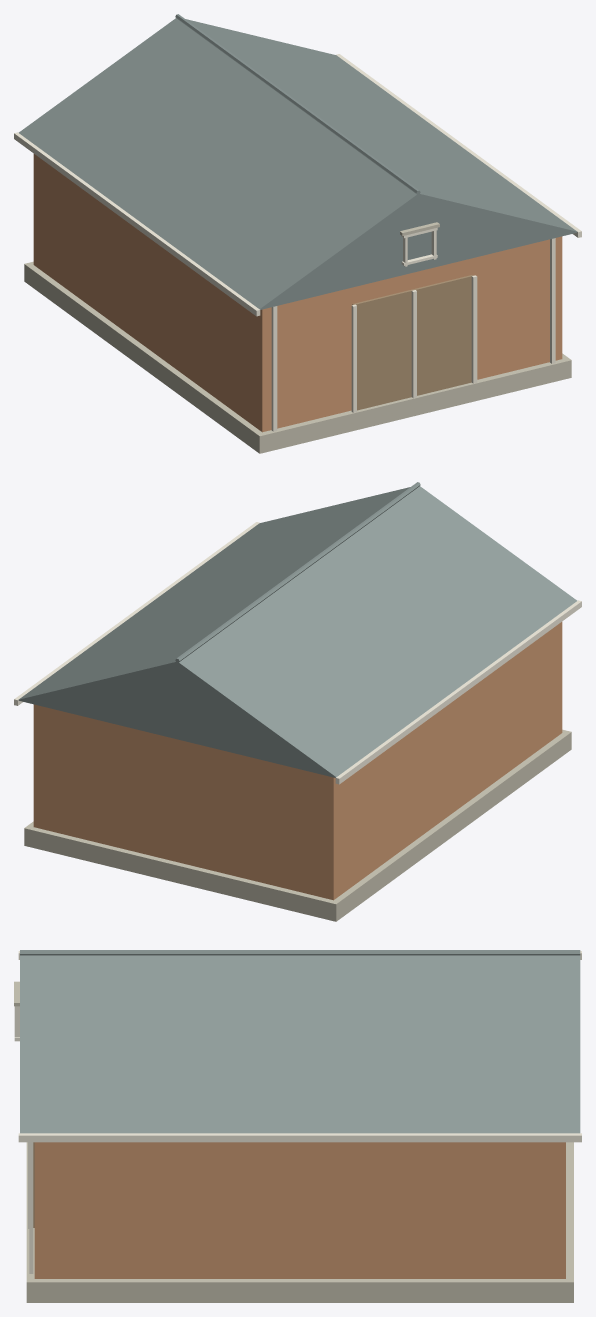
3 views of the same model, one above another, from view 1: azimuth 30°, elevation 25°; view 2: azimuth 150°, elevation 25°; view 3: azimuth 270°, elevation 25° (orthographic). The views are drawn at different scales.
Bounding box in the file's own units: 13.56 × 9.04 × 17.64.
